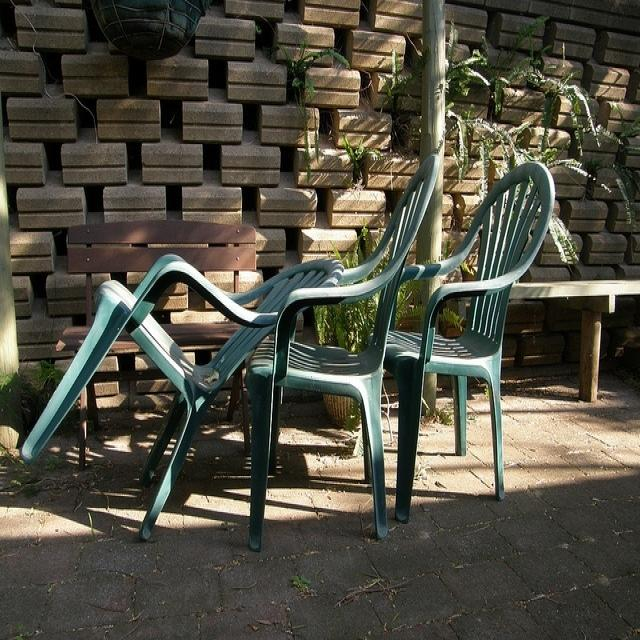Plastics: (15, 137, 557, 541)
